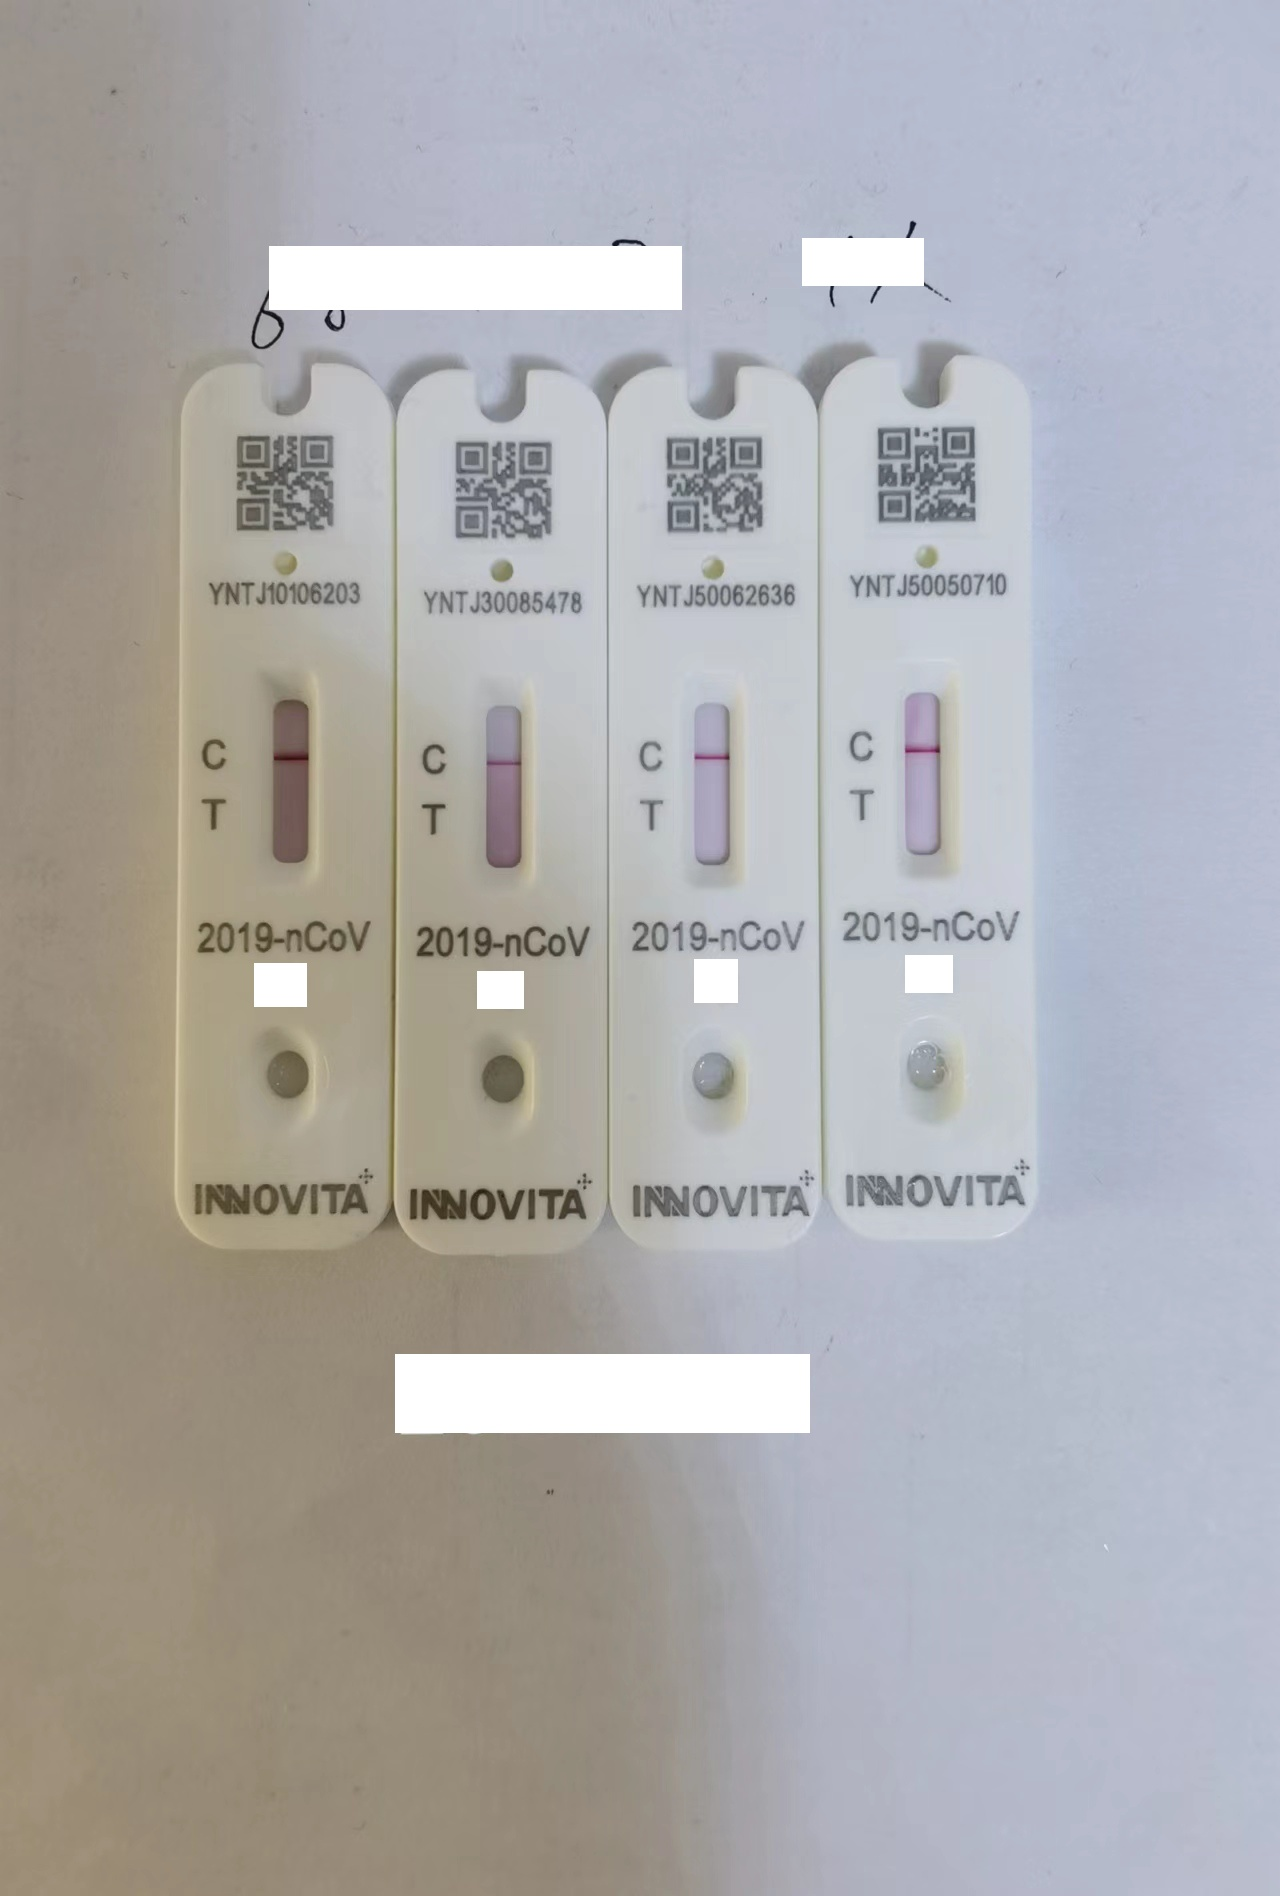negative: (674, 680, 749, 883), (889, 669, 963, 872), (254, 677, 323, 872), (471, 693, 536, 879)
